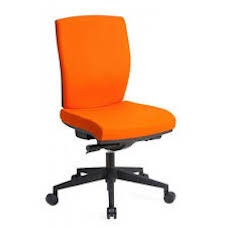chair: (24, 13, 188, 222)
